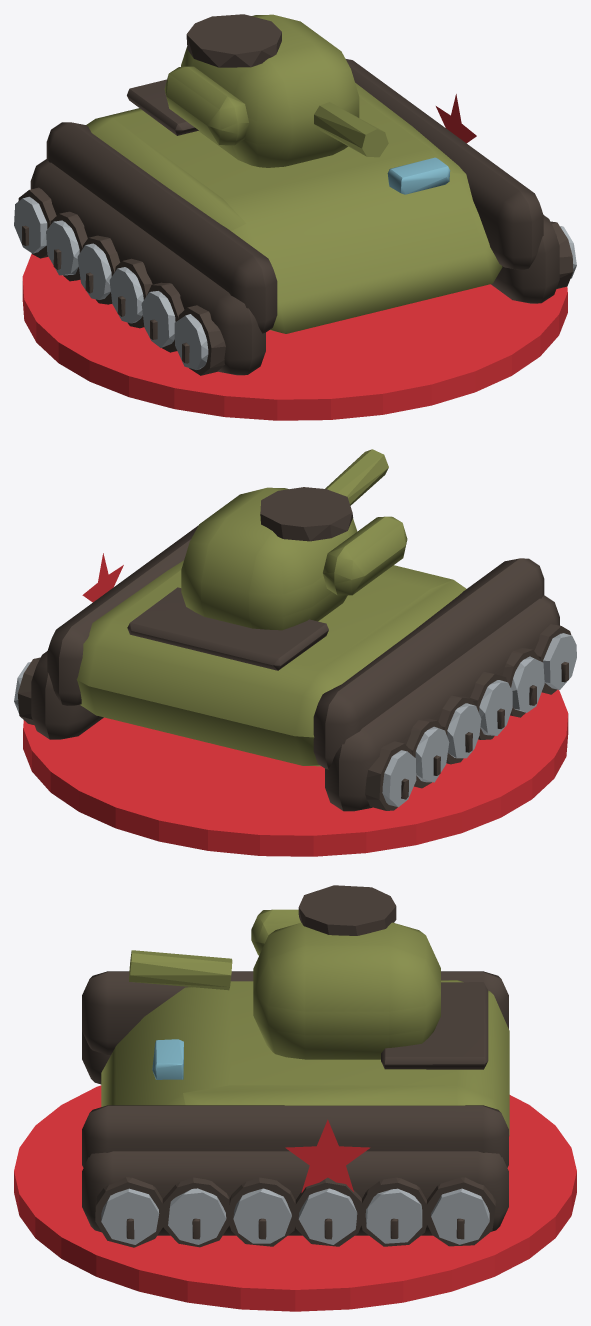
File: soviet_union_infantry_lod0.glb
The picture shows the model from 3 angles, top to bottom: view 1: azimuth 30°, elevation 25°; view 2: azimuth 150°, elevation 25°; view 3: azimuth 270°, elevation 25°; orthographic projection. The views are drawn at different scales.
Parts seen in each view (by area): view 1: body_hull, base_pedestal; view 2: body_hull, base_pedestal; view 3: body_hull, base_pedestal.
Part boxes in pixels (<box>): body_hull: <box>14,14,576,375</box>; base_pedestal: <box>22,254,567,420</box>; body_hull: <box>14,449,576,811</box>; base_pedestal: <box>23,690,568,856</box>; body_hull: <box>82,885,509,1247</box>; base_pedestal: <box>14,1085,576,1311</box>.
Size of the model in its own units: 0.78 by 0.412 by 0.78.
